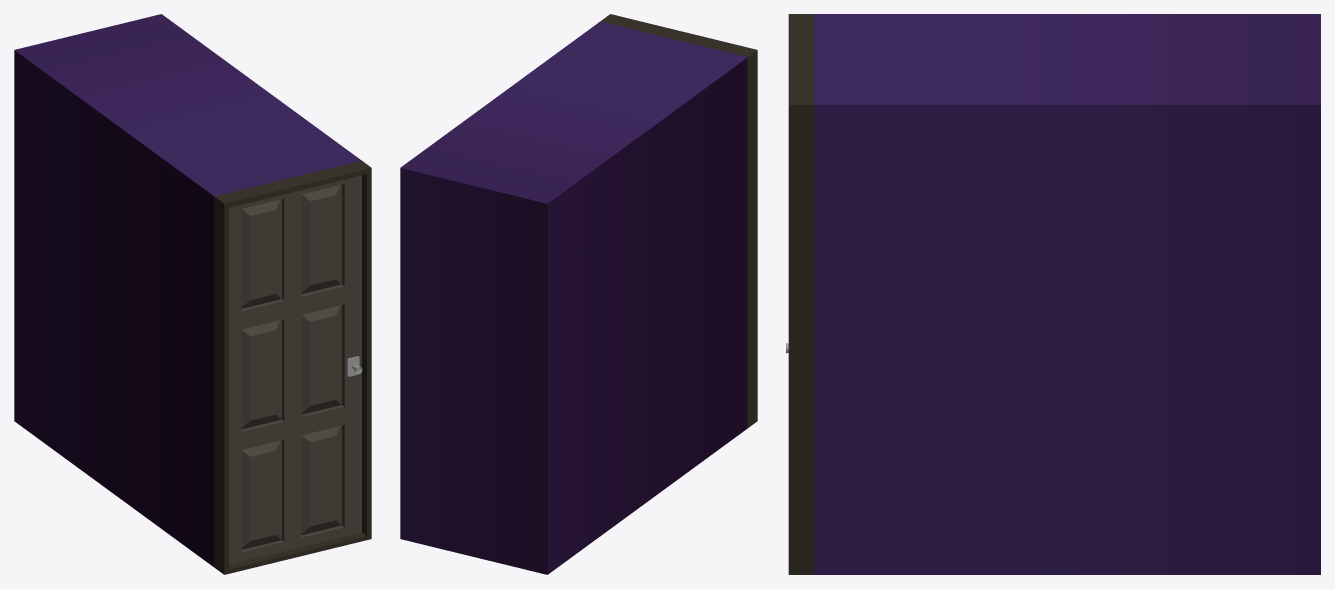
File: SM_Door.glb
The picture shows the model from 3 angles, left to right: view 1: azimuth 30°, elevation 25°; view 2: azimuth 150°, elevation 25°; view 3: azimuth 270°, elevation 25°; orthographic projection. The views are drawn at different scales.
Parts seen in each view (by area): view 1: SM_Room, SM_DoorPanel, SM_DoorFrame; view 2: SM_Room, SM_DoorFrame; view 3: SM_Room, SM_DoorFrame.
Boxes of the visible parts, x1=… form: SM_Room: x1=14, y1=14, x2=361, y2=566; SM_DoorPanel: x1=229, y1=175, x2=362, y2=564; SM_DoorFrame: x1=214, y1=160, x2=371, y2=574; SM_Room: x1=400, y1=21, x2=747, y2=574; SM_DoorFrame: x1=601, y1=14, x2=757, y2=427; SM_Room: x1=814, y1=14, x2=1320, y2=574; SM_DoorFrame: x1=788, y1=14, x2=813, y2=574.
Bounding box in the file's own units: 0.85 × 2.05 × 2.11.
Materials: 4 (1 with a texture image).
